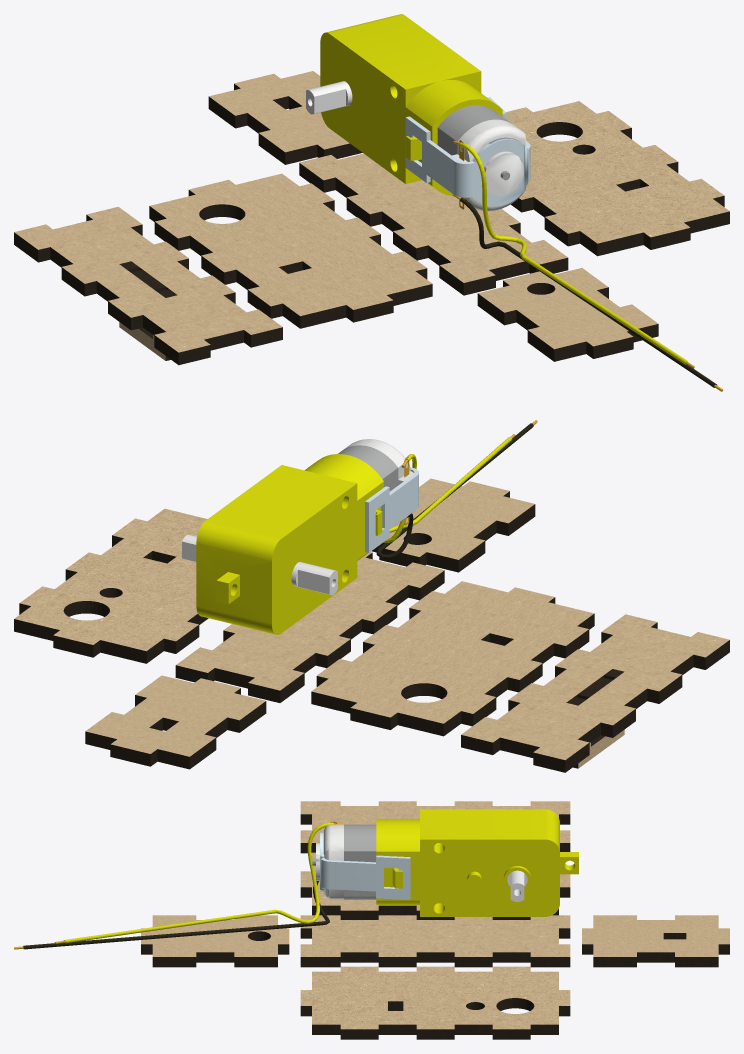
File: motor_box_assembly.glb
The picture shows the model from 3 angles, top to bottom: view 1: azimuth 30°, elevation 25°; view 2: azimuth 150°, elevation 25°; view 3: azimuth 270°, elevation 25°; orthographic projection. The views are drawn at different scales.
Visible parts, largest first — view 1: MotorBox.Front.004, Part 3, MotorBox.Back.004, MotorBox.Top.004, MotorBox.Down.004, MotorBox.Left.004, MotorBox.Right.004, Cylinder.002, Cylinder.001, Axis, GenericHolder.Peg.005; view 2: Part 3, MotorBox.Front.004, MotorBox.Back.004, MotorBox.Top.004, MotorBox.Down.004, MotorBox.Right.004, MotorBox.Left.004, Axis, GenericHolder.Peg.005, Cylinder.002, Cylinder.001; view 3: Part 3, MotorBox.Back.004, MotorBox.Down.004, MotorBox.Right.004, MotorBox.Left.004, MotorBox.Top.004, MotorBox.Front.004, Cylinder.002, Cylinder.001, Axis.
Part boxes in pixels (x1,y1,x2,y2): MotorBox.Front.004: (149, 173, 432, 328); Part 3: (320, 14, 530, 211); MotorBox.Back.004: (506, 101, 729, 256); MotorBox.Top.004: (14, 206, 282, 365); MotorBox.Down.004: (299, 153, 568, 295); MotorBox.Left.004: (477, 268, 658, 361); MotorBox.Right.004: (208, 71, 362, 164); Cylinder.002: (453, 140, 694, 368); Cylinder.001: (452, 194, 723, 391); Axis: (306, 81, 352, 114); GenericHolder.Peg.005: (119, 261, 177, 360); Part 3: (196, 439, 418, 634); MotorBox.Front.004: (311, 581, 594, 736); MotorBox.Back.004: (14, 508, 208, 663); MotorBox.Top.004: (461, 614, 729, 772); MotorBox.Down.004: (175, 552, 444, 702); MotorBox.Right.004: (85, 675, 266, 769); MotorBox.Left.004: (371, 478, 535, 572); Axis: (182, 534, 337, 595); GenericHolder.Peg.005: (566, 669, 624, 768); Cylinder.002: (383, 434, 515, 542); Cylinder.001: (376, 420, 537, 559); Part 3: (312, 809, 578, 916); MotorBox.Back.004: (300, 966, 570, 1039); MotorBox.Down.004: (300, 915, 570, 967); MotorBox.Right.004: (582, 915, 729, 967); MotorBox.Left.004: (141, 915, 289, 967); MotorBox.Top.004: (300, 801, 570, 853); MotorBox.Front.004: (300, 852, 570, 919); Cylinder.002: (54, 822, 342, 943); Cylinder.001: (14, 881, 329, 949); Axis: (507, 870, 527, 901).
Bounding box in the file's own units: 14.2 × 4.75 × 18.85.
Materials: 9 (2 with a texture image).
